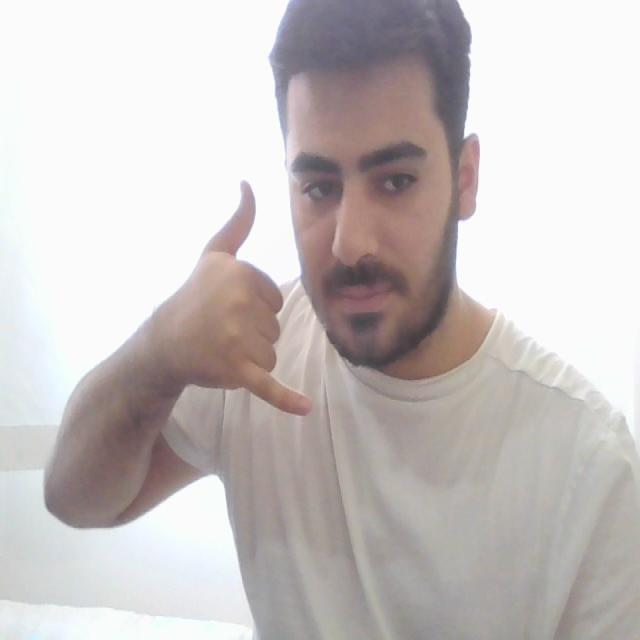Telefon: (187, 166, 324, 422)
